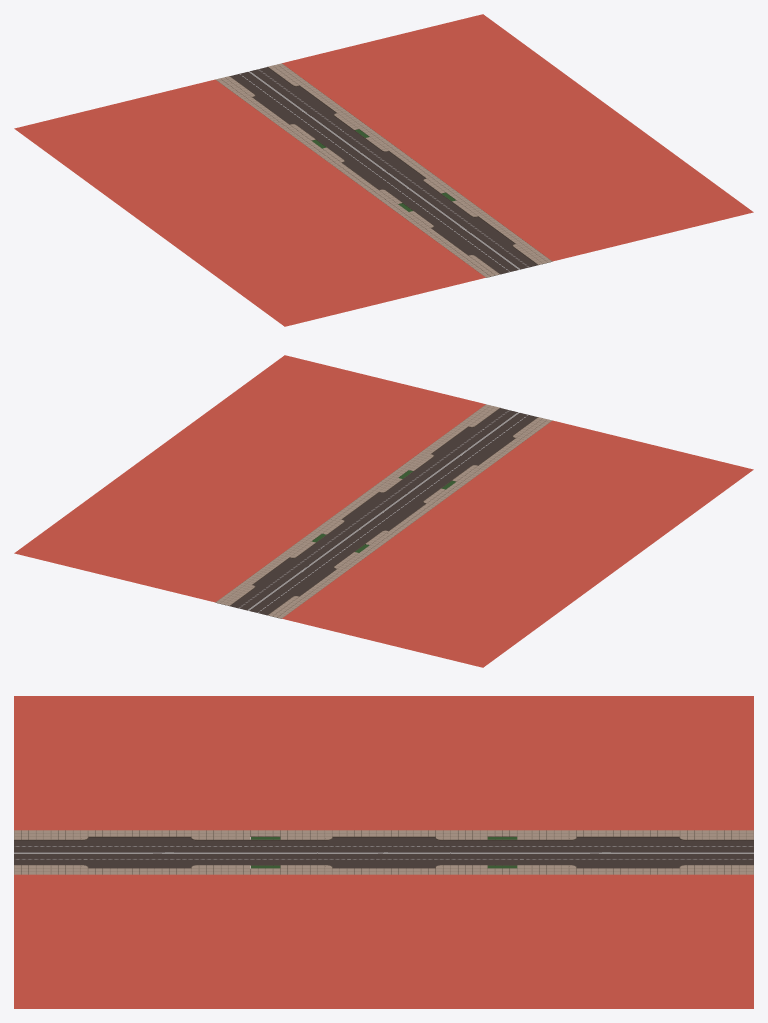
The model's file is TileCity5_1.fbx.
3 renders of one model, top to bottom at view 1: azimuth 30°, elevation 25°; view 2: azimuth 150°, elevation 25°; view 3: azimuth 270°, elevation 25°, orthographic. The views are drawn at different scales.
Parts seen in each view (by area): view 1: Sidewalk1.005, Road1, Sidewalk1.016, Sidewalk1.023; view 2: Sidewalk1.005, Road1, Sidewalk1.023, Sidewalk1.016; view 3: Sidewalk1.005, Road1, Sidewalk1.016, Sidewalk1.023, Sidewalk1.060, Sidewalk1.007, Sidewalk1.063, Sidewalk1.009, Sidewalk1.002, Sidewalk1.019, Sidewalk1.022, Sidewalk1.001 (+7 smaller).
Part boxes in pixels (bbox=[...]): Sidewalk1.005: bbox=[14, 14, 753, 326]; Road1: bbox=[230, 67, 537, 274]; Sidewalk1.016: bbox=[381, 184, 473, 220]; Sidewalk1.023: bbox=[294, 121, 386, 156]; Sidewalk1.005: bbox=[14, 355, 753, 667]; Road1: bbox=[230, 408, 537, 615]; Sidewalk1.023: bbox=[294, 525, 386, 561]; Sidewalk1.016: bbox=[381, 462, 473, 497]; Sidewalk1.005: bbox=[14, 696, 753, 1008]; Road1: bbox=[14, 840, 753, 865]; Sidewalk1.016: bbox=[228, 830, 302, 874]; Sidewalk1.023: bbox=[465, 830, 539, 874]; Sidewalk1.060: bbox=[361, 830, 406, 874]; Sidewalk1.007: bbox=[606, 830, 650, 874]; Sidewalk1.063: bbox=[117, 830, 161, 874]; Sidewalk1.009: bbox=[406, 830, 443, 874]; Sidewalk1.002: bbox=[650, 830, 687, 874]; Sidewalk1.019: bbox=[80, 830, 117, 874]; Sidewalk1.022: bbox=[14, 830, 50, 874]; Sidewalk1.001: bbox=[717, 830, 753, 874].
Size of the model in its own units: 20000 by 10 by 20000.
